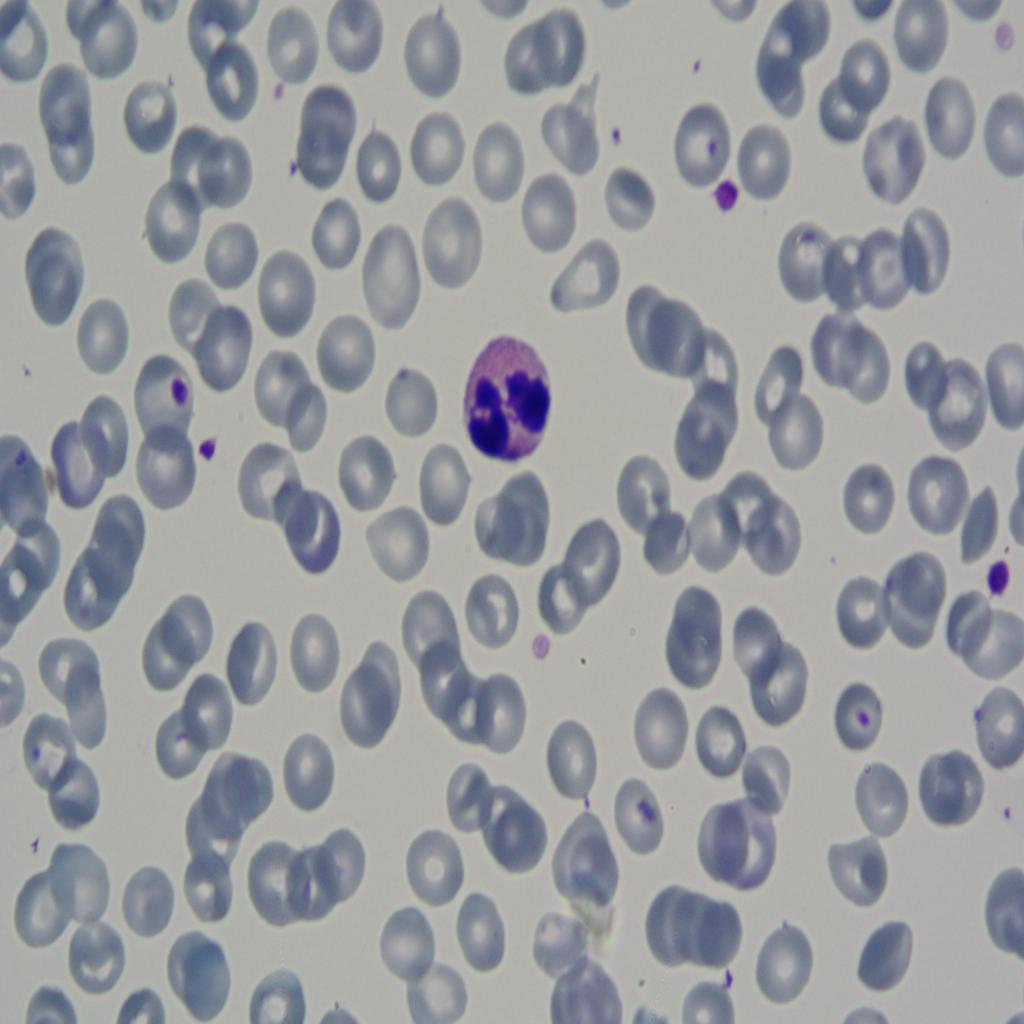Eosinofil: (451, 328, 553, 464)
Platelet: (976, 544, 1024, 590), (192, 415, 228, 475), (520, 624, 563, 671), (706, 169, 742, 222), (981, 10, 1015, 60), (601, 112, 634, 161), (168, 363, 197, 415), (632, 794, 662, 834), (262, 67, 291, 104), (689, 39, 709, 87), (283, 143, 304, 186), (718, 959, 740, 995), (705, 132, 728, 160), (969, 692, 985, 730), (859, 698, 875, 733), (999, 796, 1018, 821)
